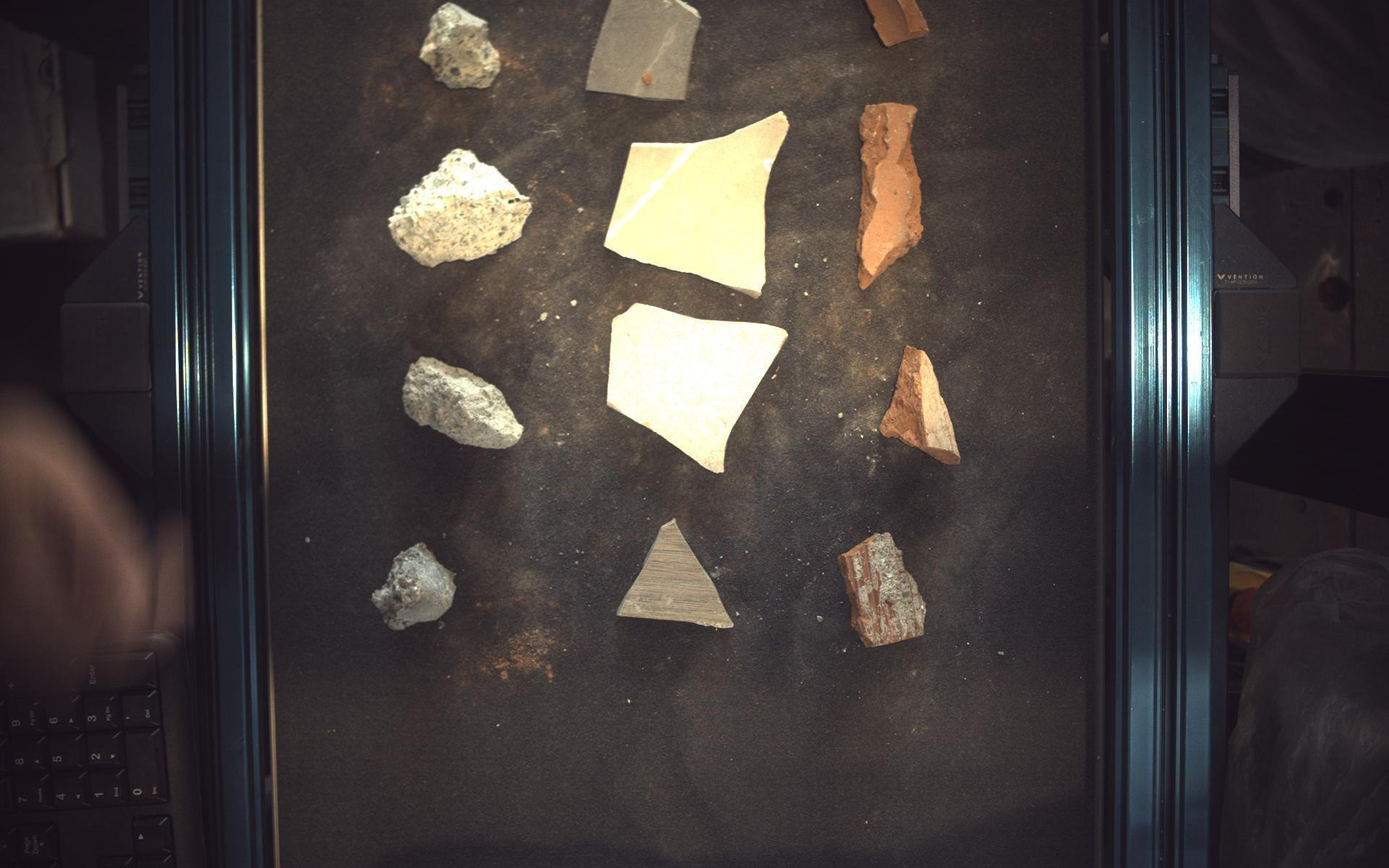brick: (859, 101, 925, 289), (840, 533, 927, 648), (880, 345, 962, 464), (867, 1, 930, 46)
concrete: (388, 148, 532, 266), (402, 357, 524, 449), (371, 542, 456, 631), (420, 1, 501, 88)
tile: (606, 111, 790, 297), (608, 303, 789, 473), (618, 521, 735, 629), (587, 1, 701, 99)
